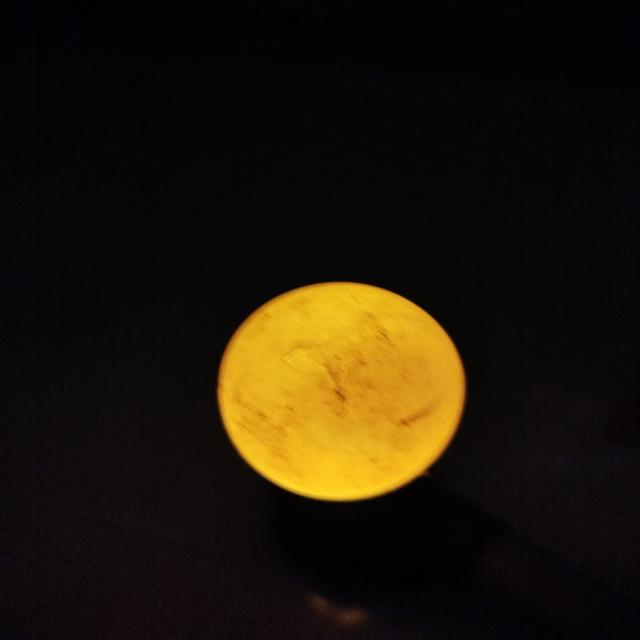Rachadura: (283, 334, 375, 416)
